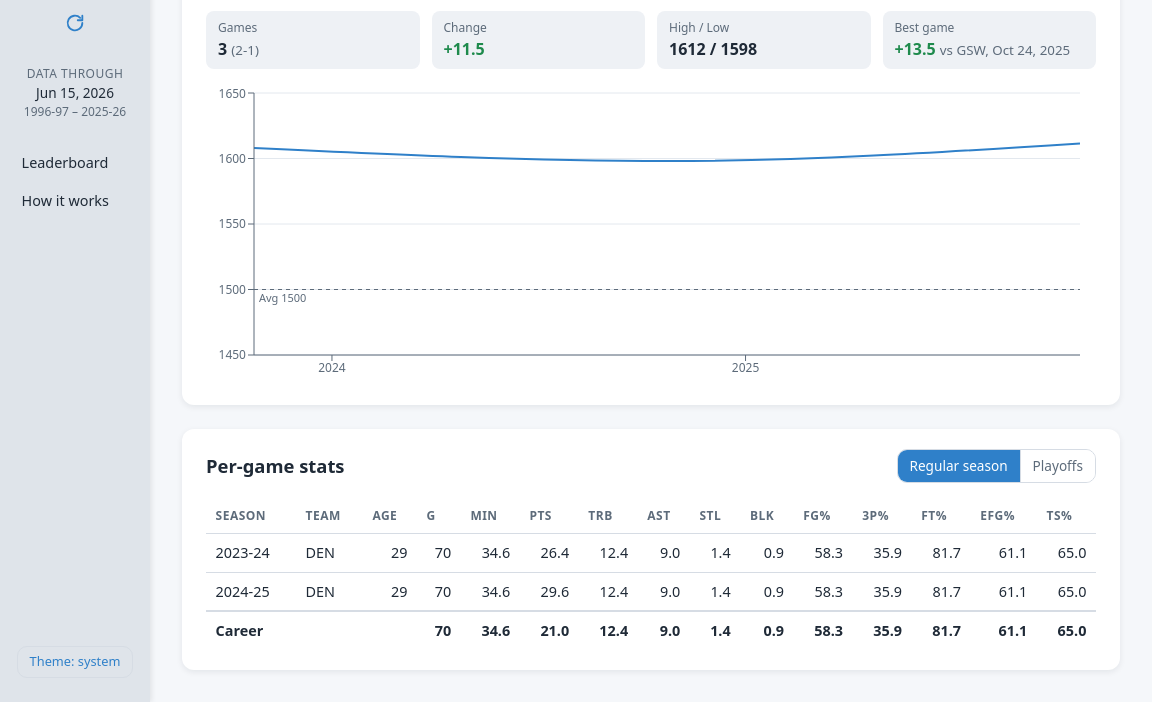
Test case: player page › renders profile, Elo summary and stats
(page scrolled)
Expected: the text "+11.5" is shown, top-left (444, 38), bottom-right (485, 60)
Expected: the text "29.6" is shown, top-left (520, 572), bottom-right (579, 611)
Click the button "Playoffs": [1057, 466] box top-left (1020, 450), bottom-right (1095, 482)
(page scrolled)
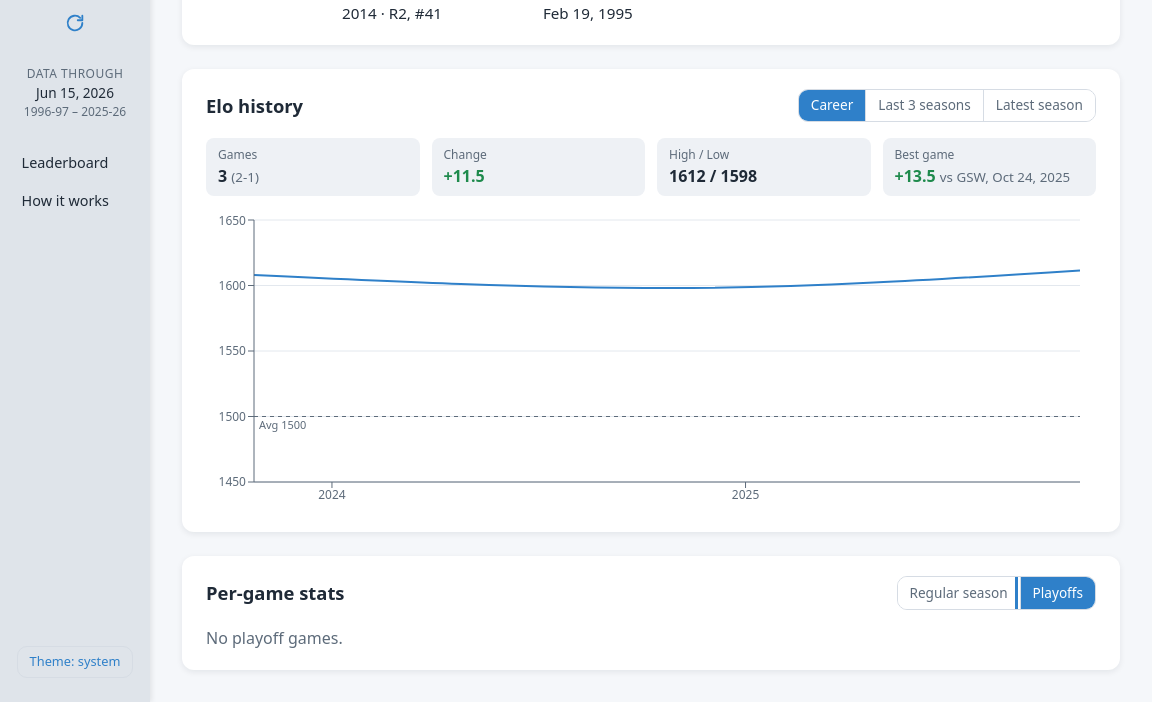
Expected: the text "No playoff games." is shown, top-left (206, 627), bottom-right (343, 649)
